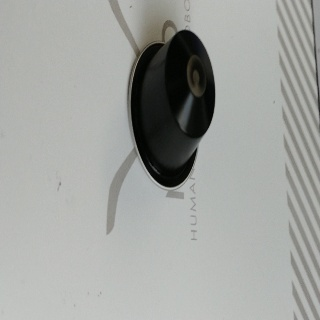capsule_10: (126, 29, 216, 191)
